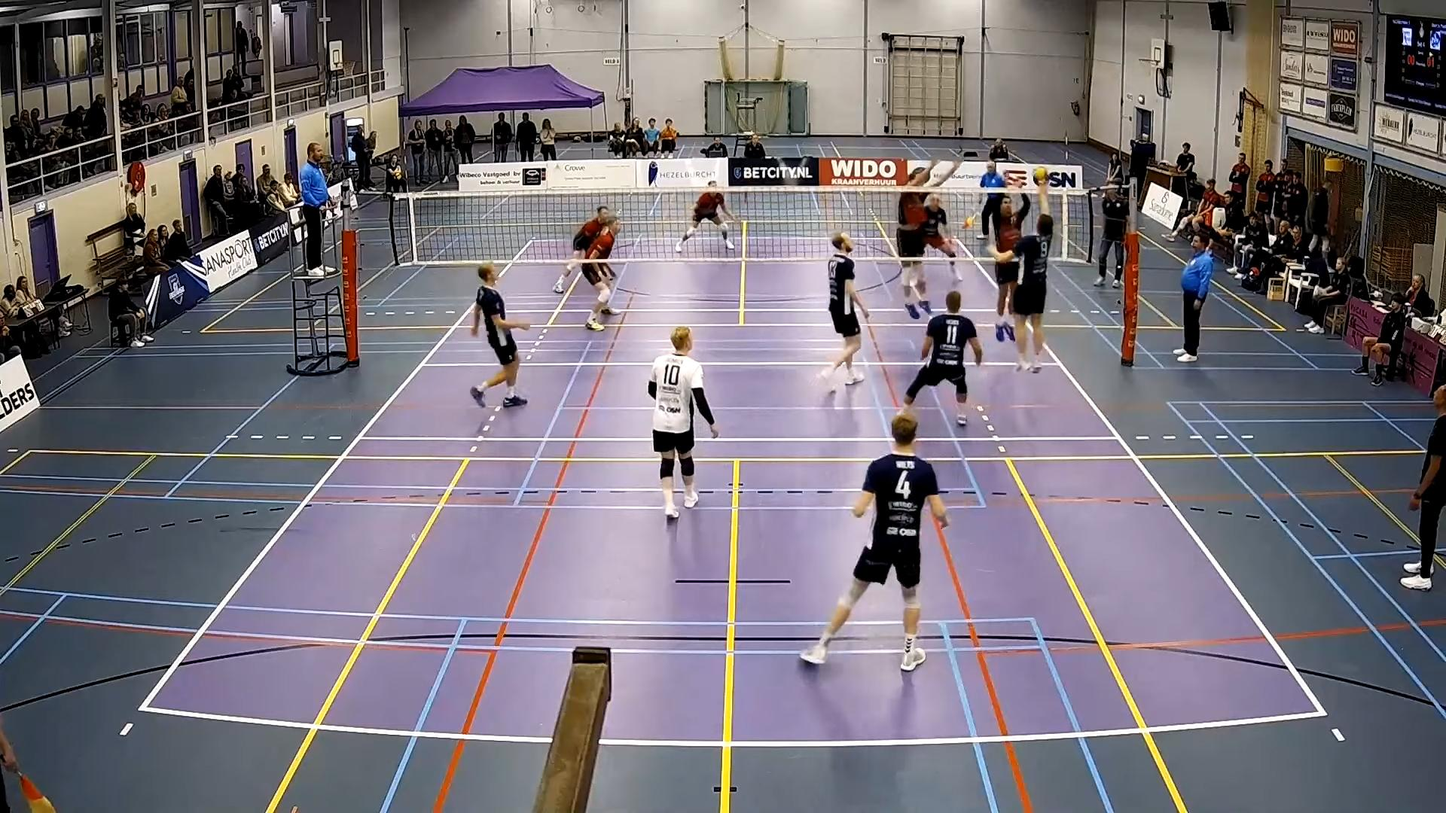Attack: (983, 177, 1059, 378)
Block: (892, 153, 966, 323), (985, 169, 1029, 350)
Player: (801, 414, 947, 671), (648, 326, 718, 518), (904, 291, 982, 425), (470, 263, 530, 406), (820, 233, 868, 391), (553, 206, 609, 294), (582, 213, 618, 330), (675, 181, 734, 252), (922, 194, 961, 281)
